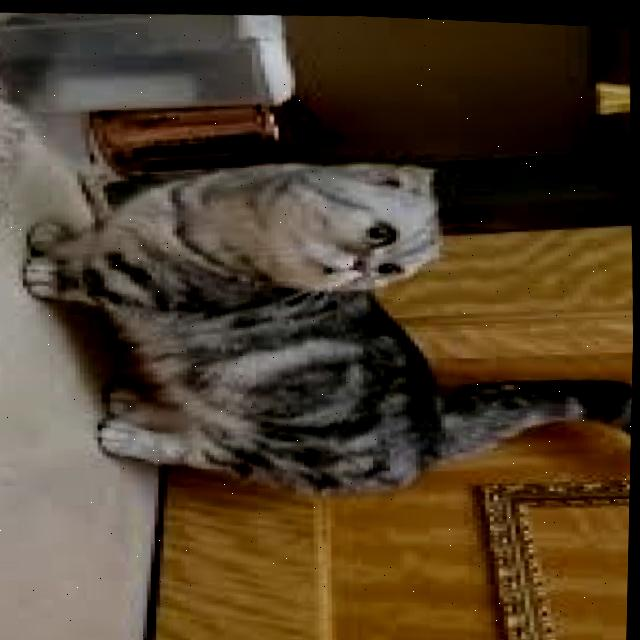Munchkin: (11, 131, 638, 512)
